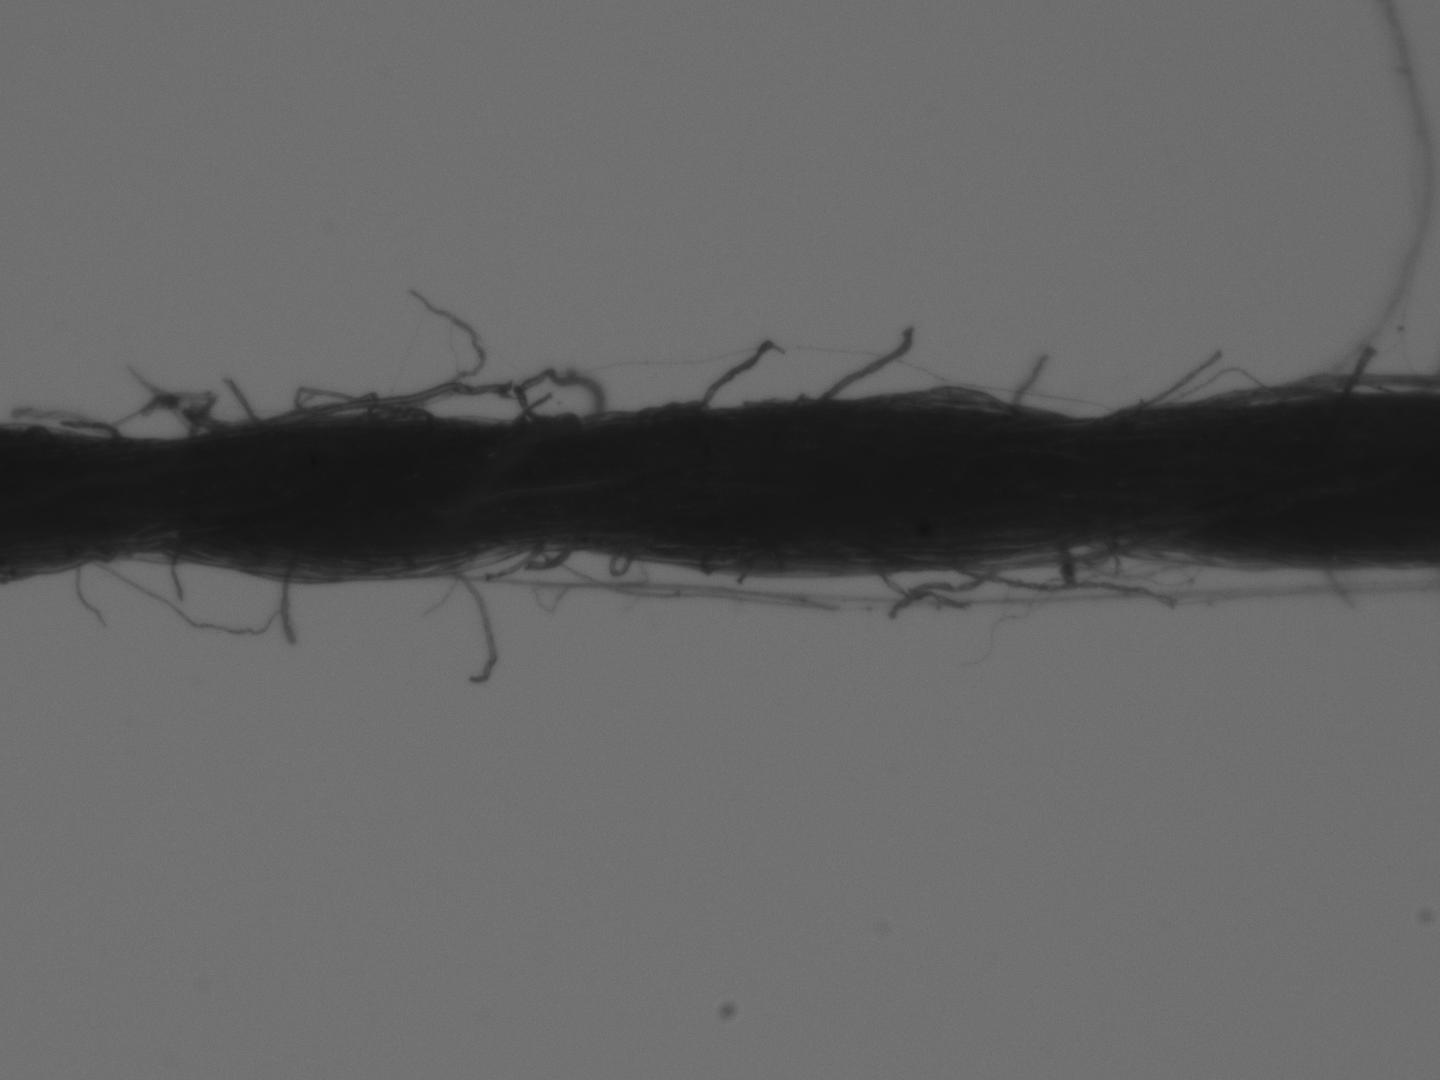loop_fiber: (92, 548, 297, 642), (66, 383, 231, 442), (836, 380, 1025, 429), (288, 379, 446, 437), (514, 358, 612, 438), (861, 550, 1006, 602), (1186, 379, 1331, 412), (514, 537, 574, 579), (599, 539, 638, 585)
protruding_fiber: (806, 314, 922, 413), (438, 557, 501, 689), (691, 335, 780, 411)
